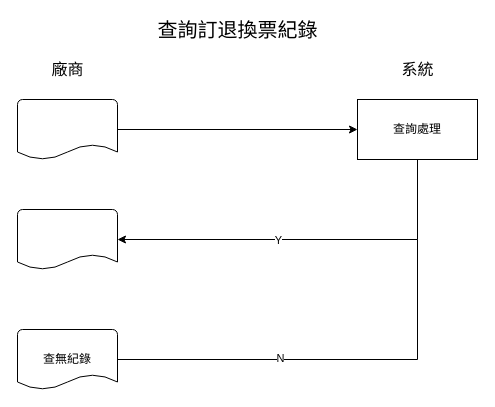
The diagram is 495 pixels wide and 407 high, and some of its shapes have lost their labels. The box of each missing label's shape, as (x1, y1, x2, y2) in pixels:
選擇影城、日期、電影、場次: (16, 98, 118, 160)
顯示該場次訂退換票紀錄: (16, 208, 118, 270)
